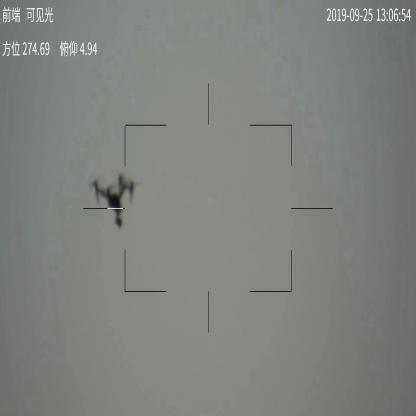uav: (90, 173, 142, 227)
